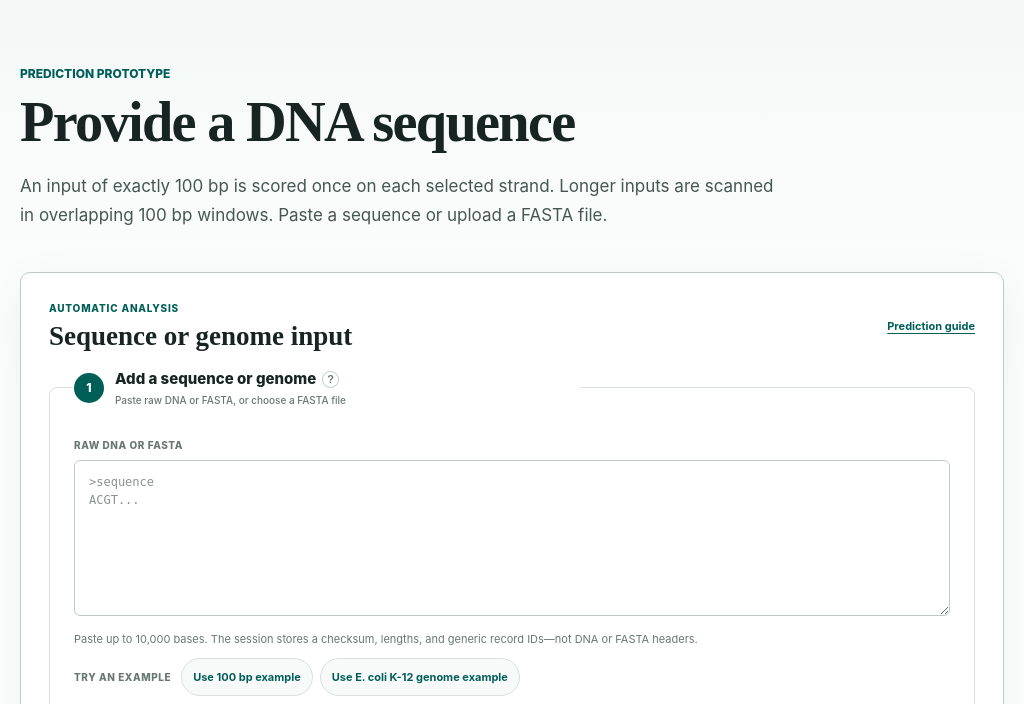
Test case: prototype prediction workbench › keeps focused context catalog recovery without restoring a primary catalog block
Click the button "Use 100 bp example" at (247, 677), box [181,658,313,696]
(page scrolled)
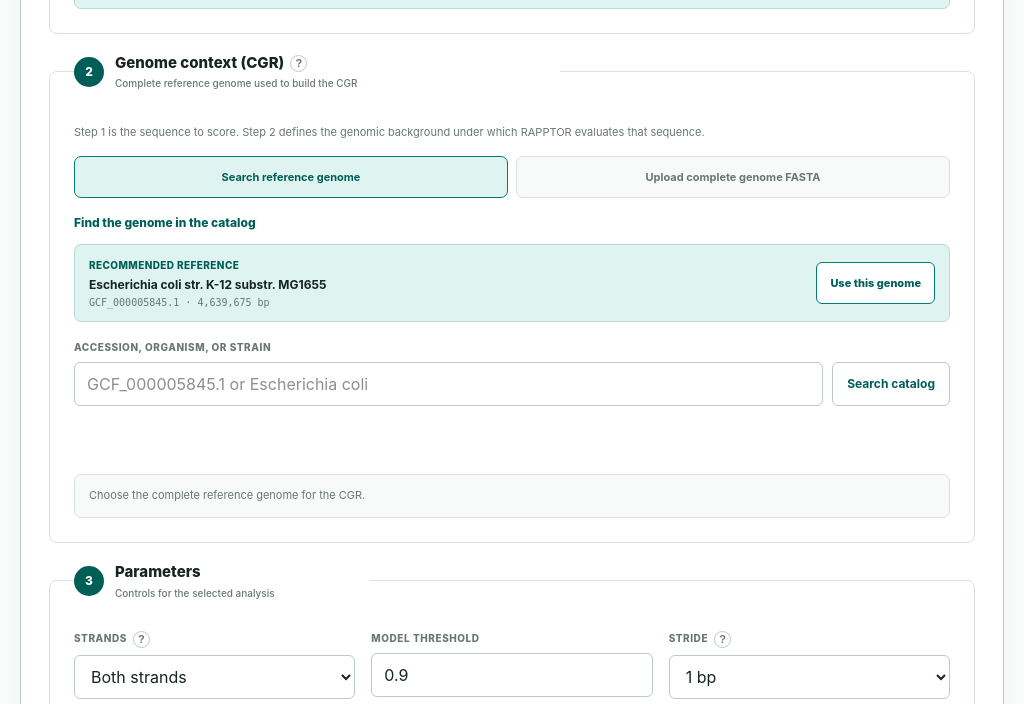
Type "E. coli" into the dropdown labelled "Accession, organism, or strain" at (449, 384), box [74,362,823,406]
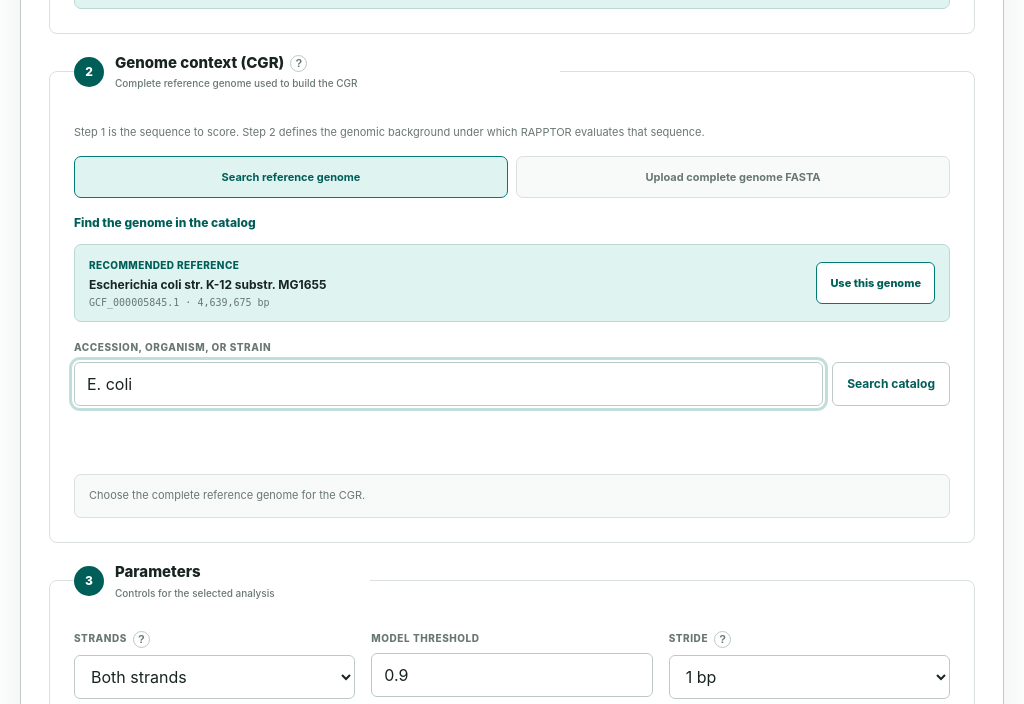
Click the button "Search catalog" at (891, 384), box [832,362,950,406]
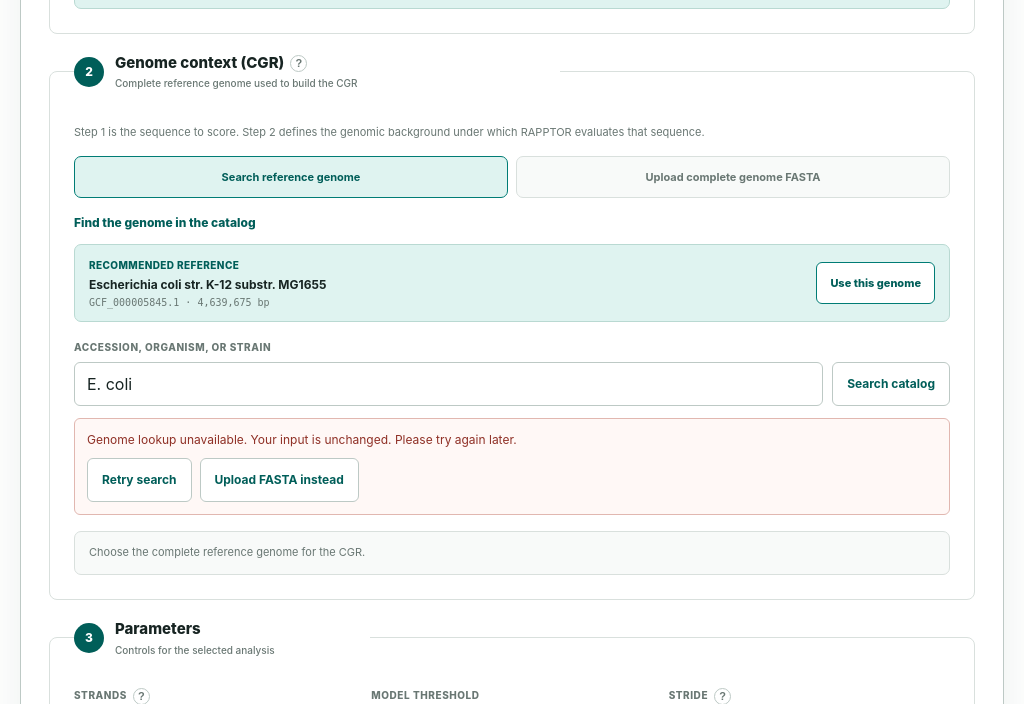
expect the button "Retry search" is shown: met, box [87,458,192,502]
expect the button "Upload FASTA instead" is shown: met, box [200,458,359,502]
